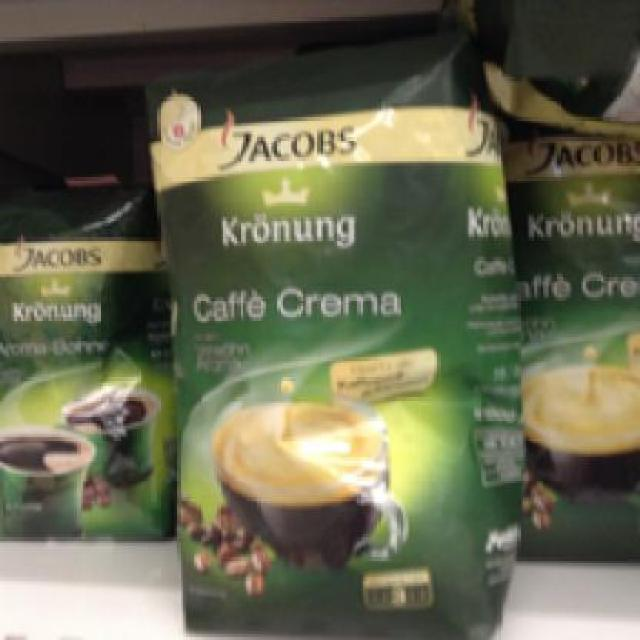Coffee: (137, 25, 520, 638), (0, 146, 169, 540)
